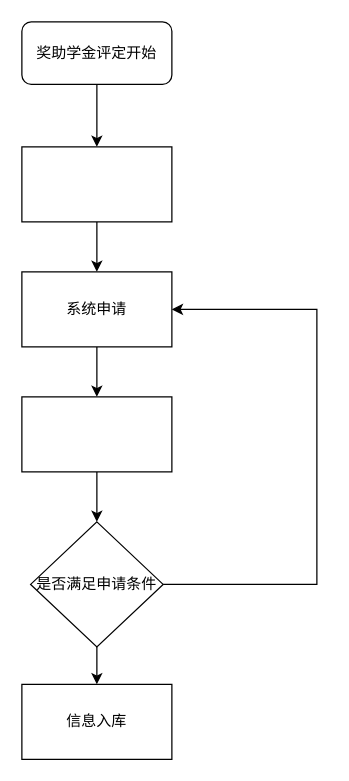
This 349x781 diagram has some shape labels left out. Here are the shapes that lost their labels. From the top down, the centre of each, then its label:
the point at 96,184: 奖助学金申请公示
the point at 96,434: 信息录入
